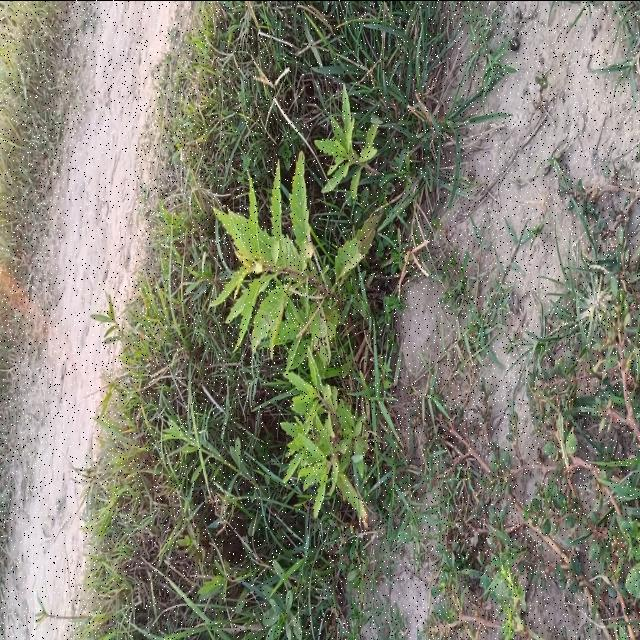weed: (210, 151, 383, 524), (315, 86, 378, 195)
